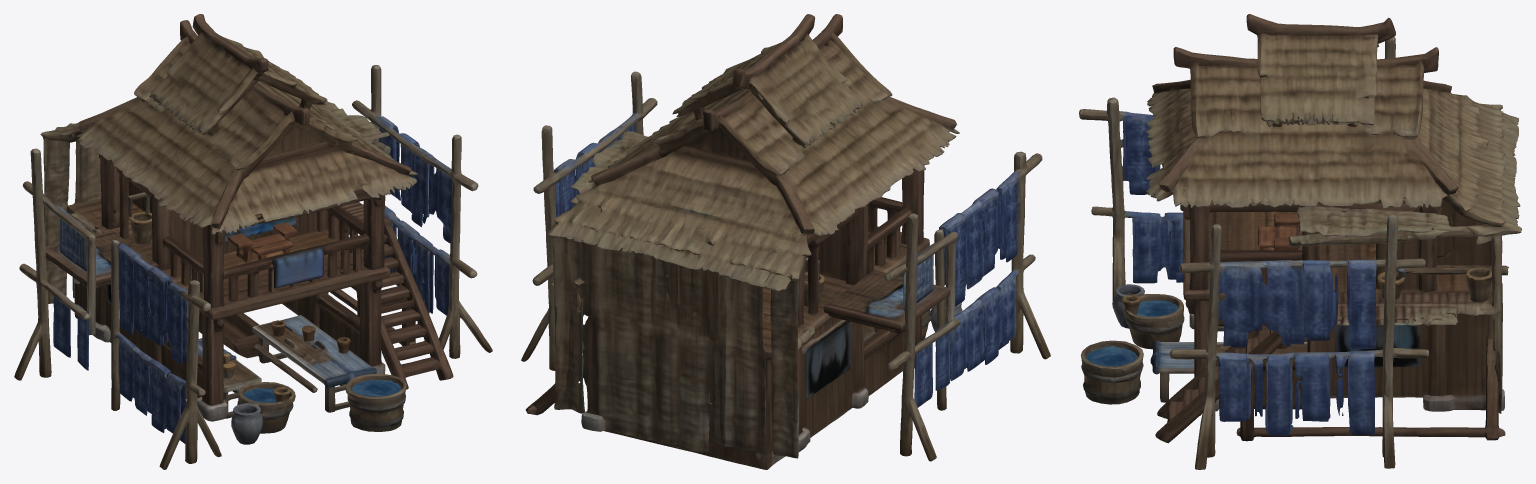
The model's file is batik-workshop.optimized.glb.
3 views of the same model, side by side, from view 1: azimuth 30°, elevation 25°; view 2: azimuth 150°, elevation 25°; view 3: azimuth 270°, elevation 25° (orthographic). The views are drawn at different scales.
Parts seen in each view (by area): view 1: geometry_0; view 2: geometry_0; view 3: geometry_0.
Part boxes in pixels (x1,y1,x2,y2): geometry_0: (14,14,492,469); geometry_0: (521,14,1050,469); geometry_0: (1079,14,1521,469).
Bounding box in the file's own units: 6.37 × 5.2 × 5.89.
1 material, 1 textured.
